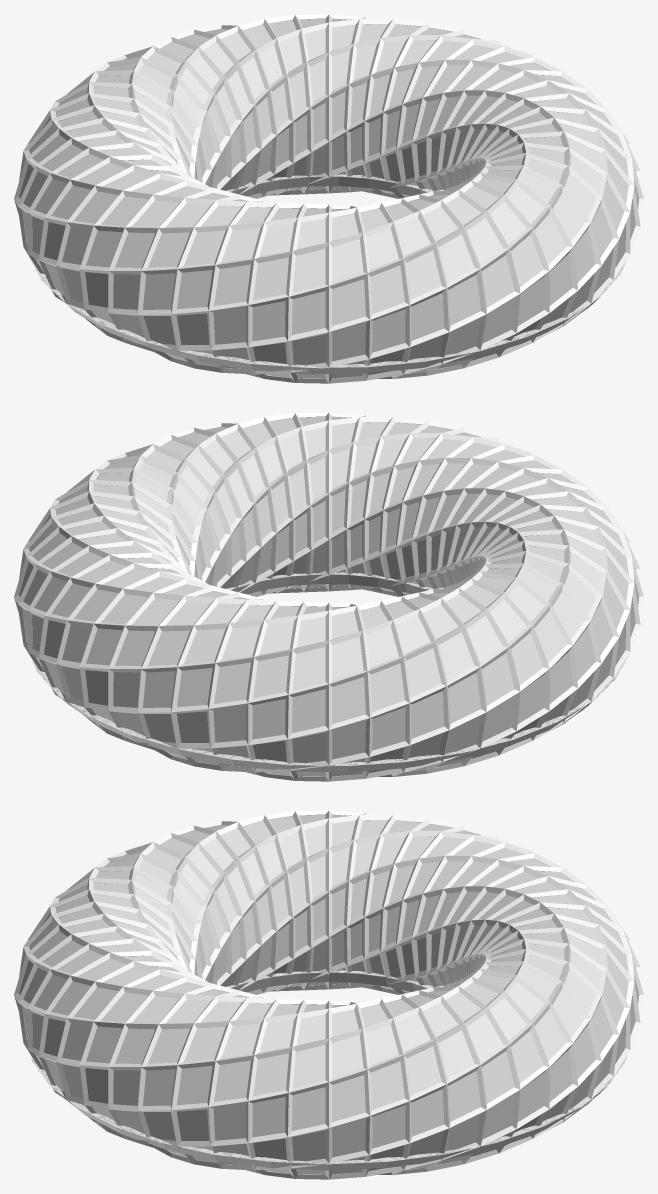
The model's file is ICT展示会場.fbx.
3 renders of one model, top to bottom at view 1: azimuth 30°, elevation 25°; view 2: azimuth 150°, elevation 25°; view 3: azimuth 270°, elevation 25°, orthographic.
Visible parts, largest first — view 1: 壁, 骨組み, 床; view 2: 壁, 骨組み, 床; view 3: 壁, 骨組み, 床.
Boxes of the visible parts, x1,y1,x2,y2 form: 壁: [19, 18, 639, 378]; 骨組み: [14, 14, 643, 383]; 床: [29, 174, 626, 374]; 壁: [19, 416, 639, 776]; 骨組み: [14, 412, 643, 781]; 床: [31, 572, 628, 772]; 壁: [19, 814, 639, 1174]; 骨組み: [14, 810, 643, 1179]; 床: [30, 970, 627, 1170].
Bounding box in the file's own units: 3.64 × 1.04 × 3.64.
Materials: 4 (1 with a texture image).
